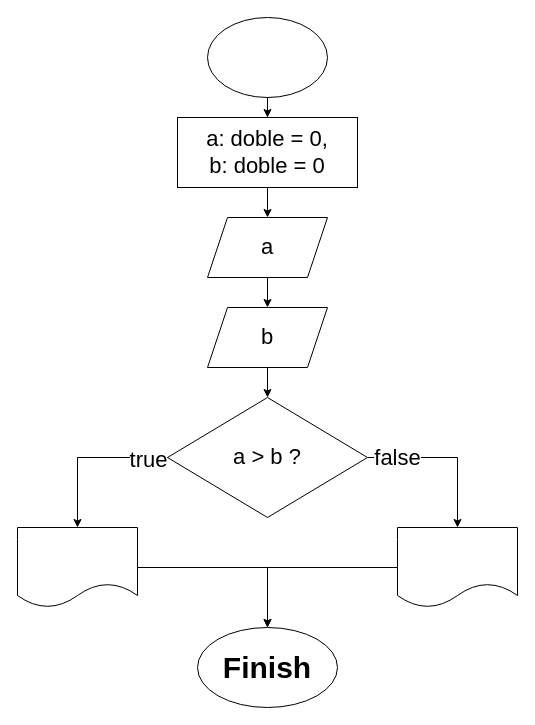
Image size: 535x725. Some labels were removed from this diagram. The centre of each missing label's shape, as x and y in pixels:
"max = a min = b" belongs at point 77,567.
"max = b min = a" belongs at point 457,567.
"Start" belongs at point 267,57.
